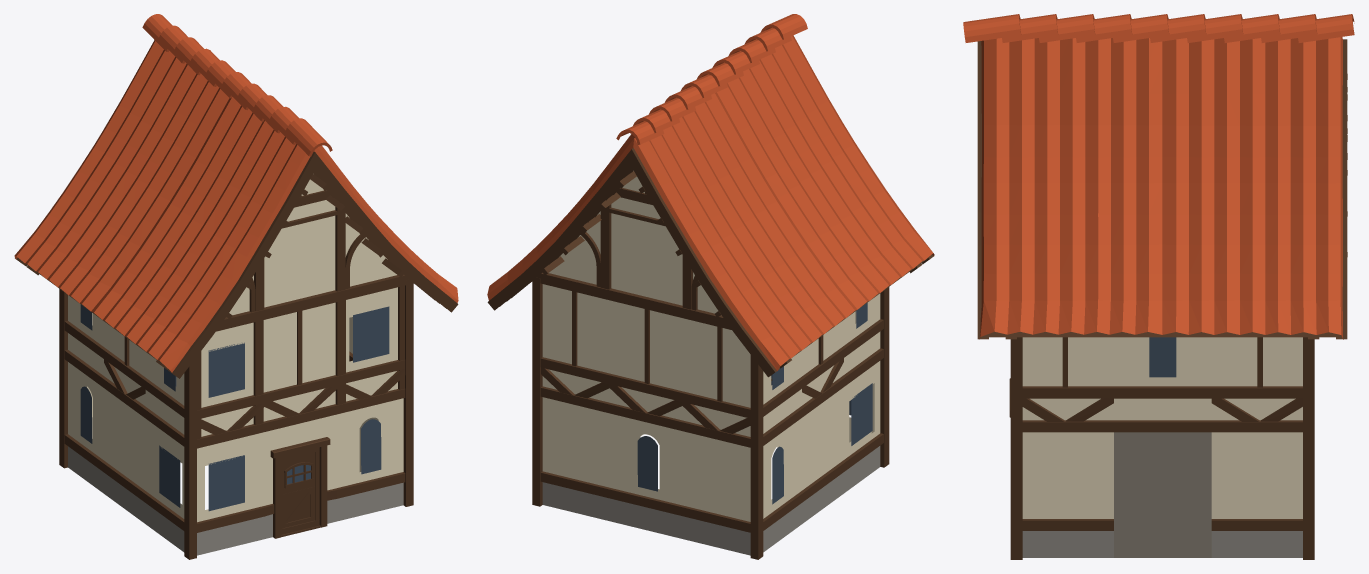
Rendered from mill_house.obj.
3 views of the same model, side by side, from view 1: azimuth 30°, elevation 25°; view 2: azimuth 150°, elevation 25°; view 3: azimuth 270°, elevation 25° (orthographic). The views are drawn at different scales.
Size of the model in its own units: 8.25 by 10.9 by 8.03.
